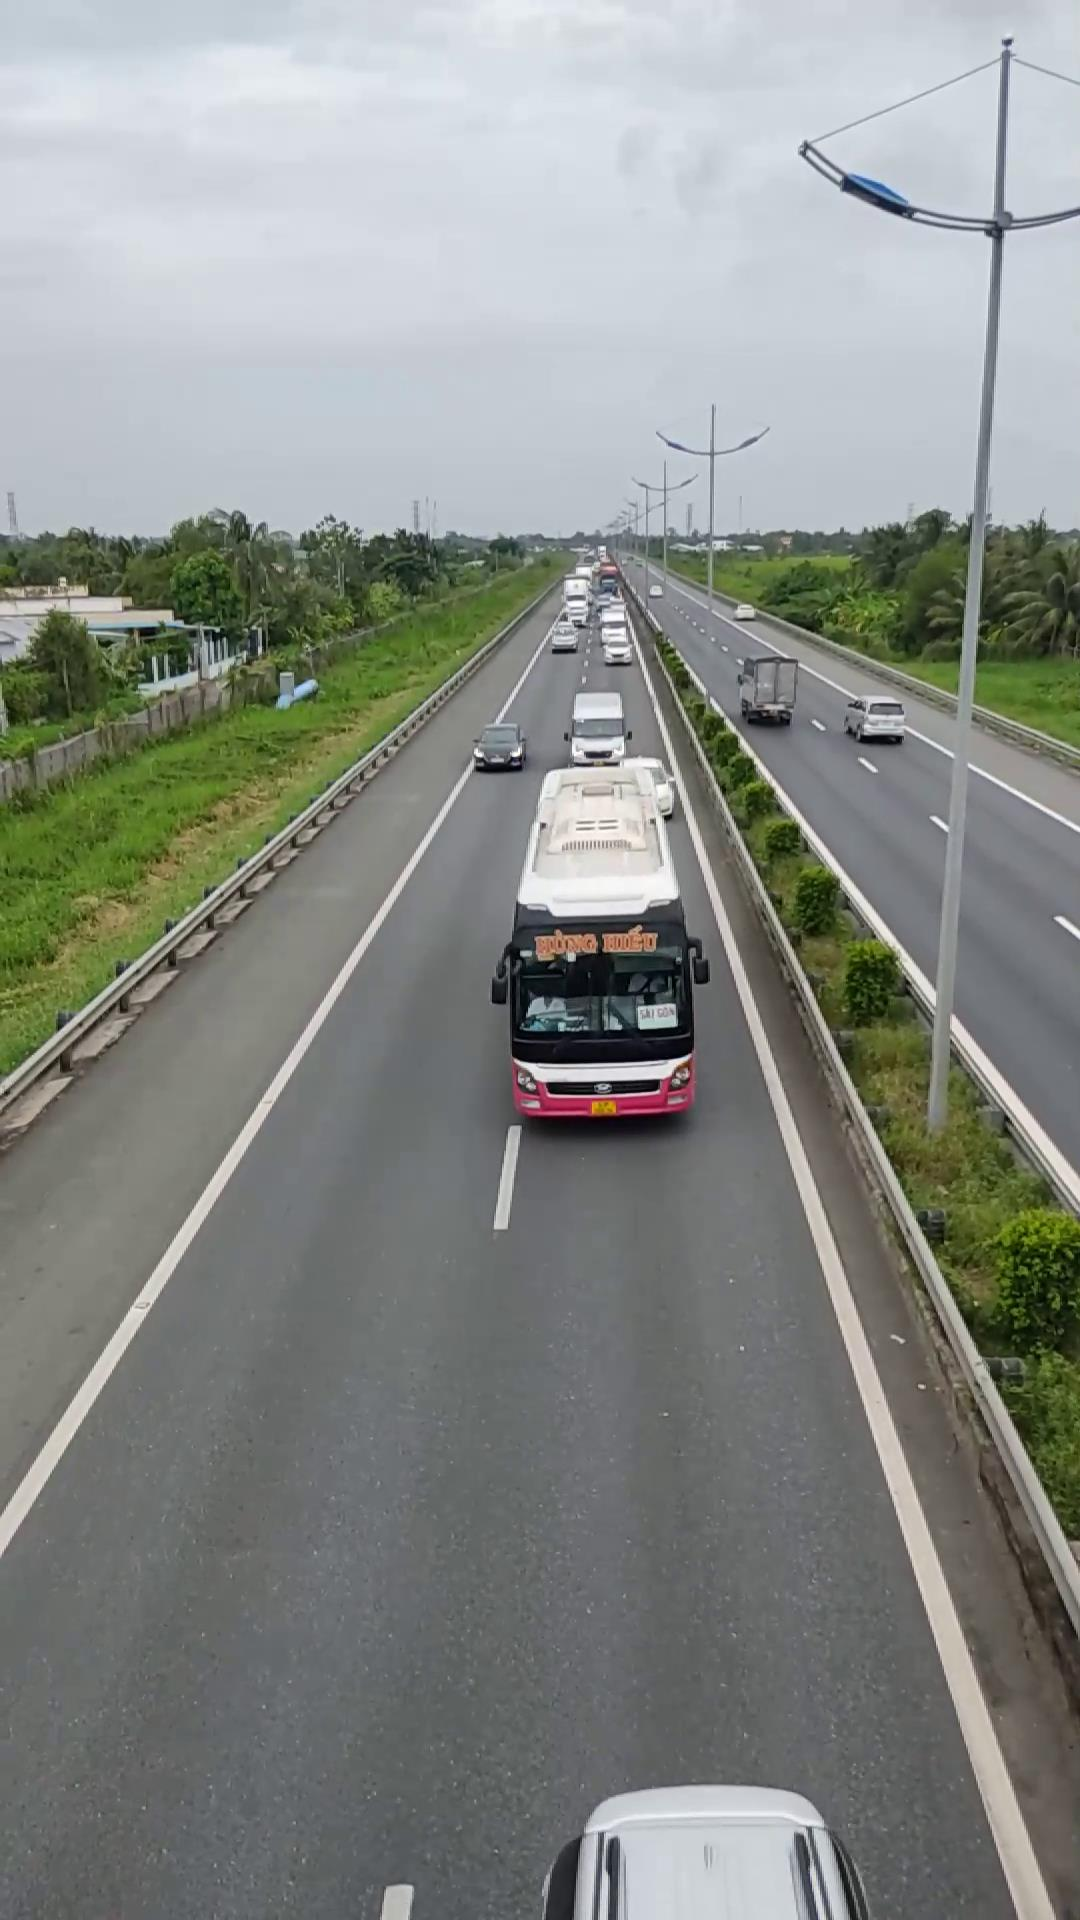bus: (493, 760, 707, 1126)
car: (525, 1783, 876, 1919)
truck: (737, 653, 796, 723)
